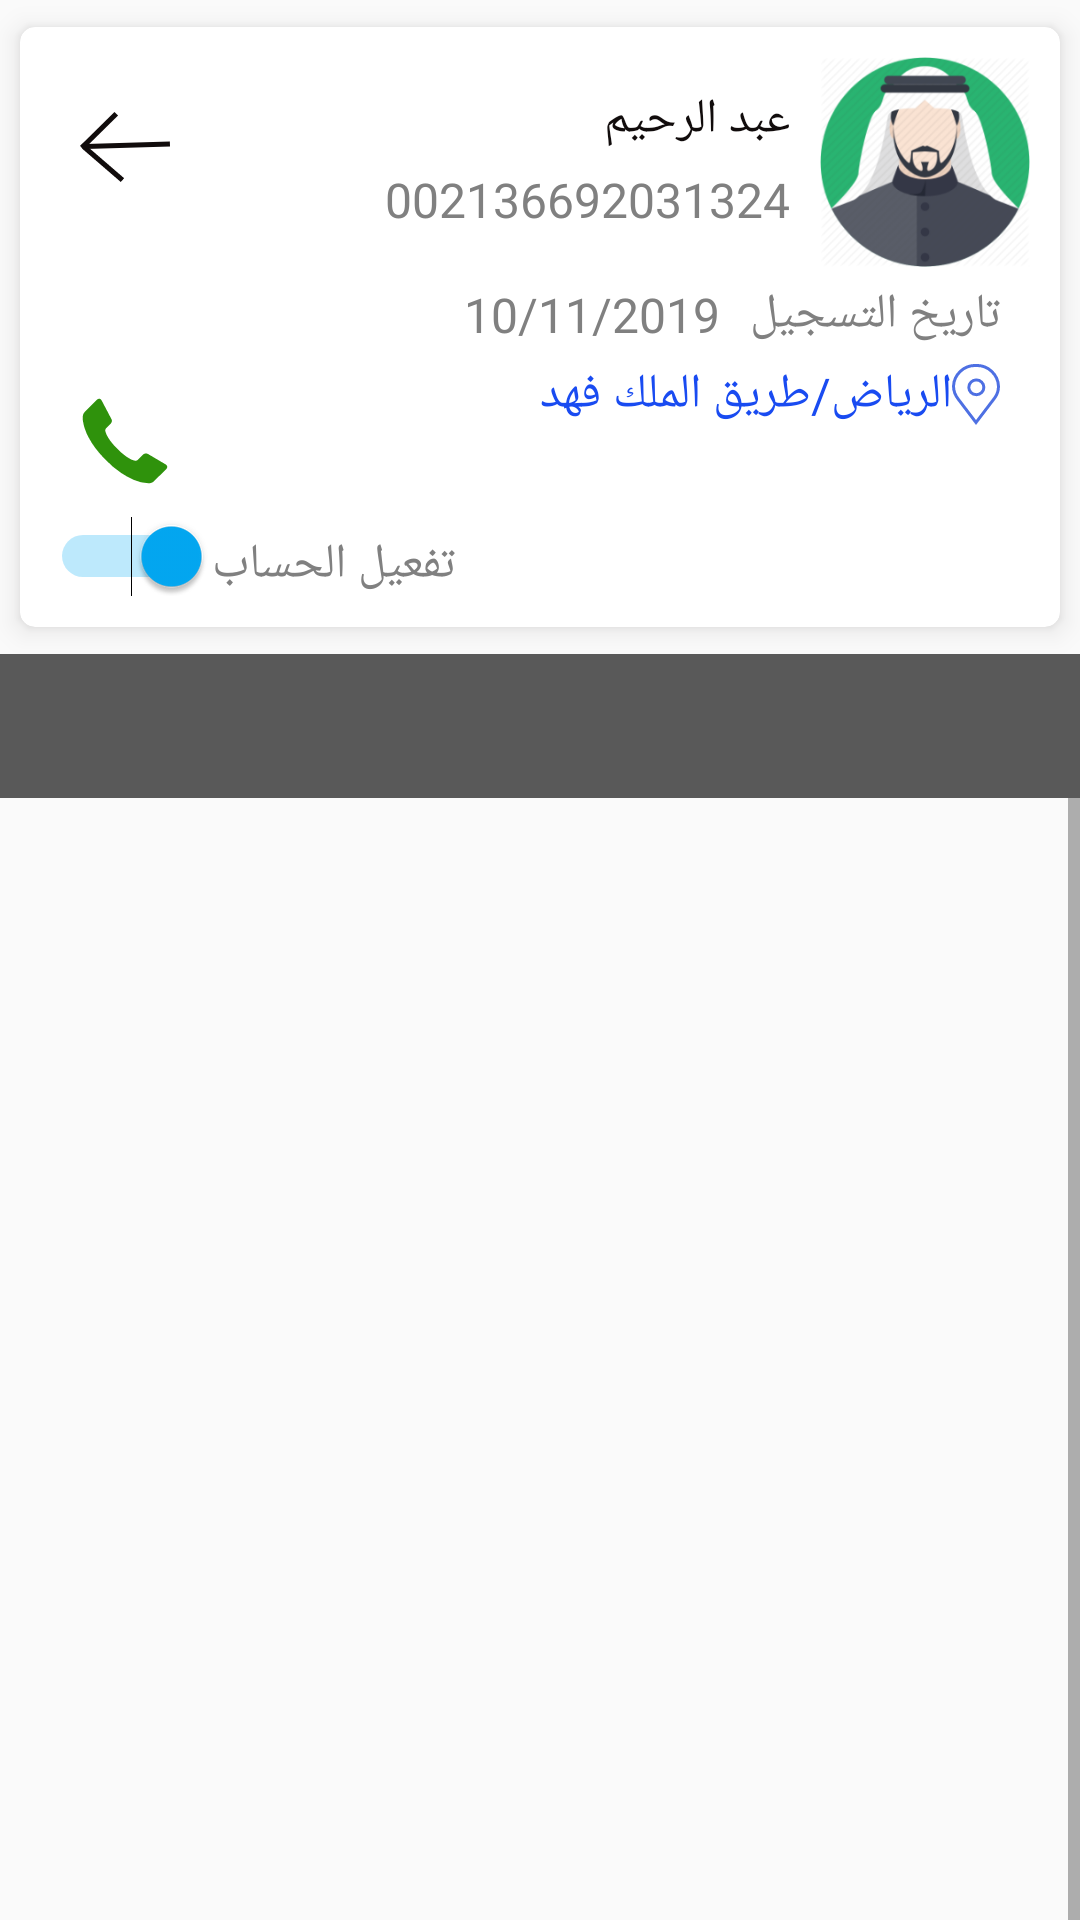

Point at icon controls on the screen. Image size 1080×1920, points as point (x, y).
back: point (125, 147)
call: point (125, 441)
man: point (925, 162)
